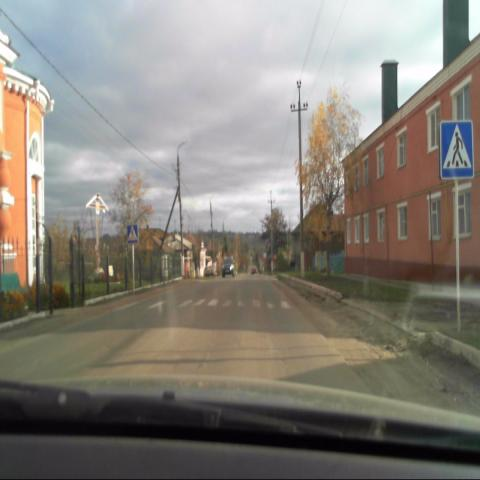5_19_1: (126, 224, 138, 243)
